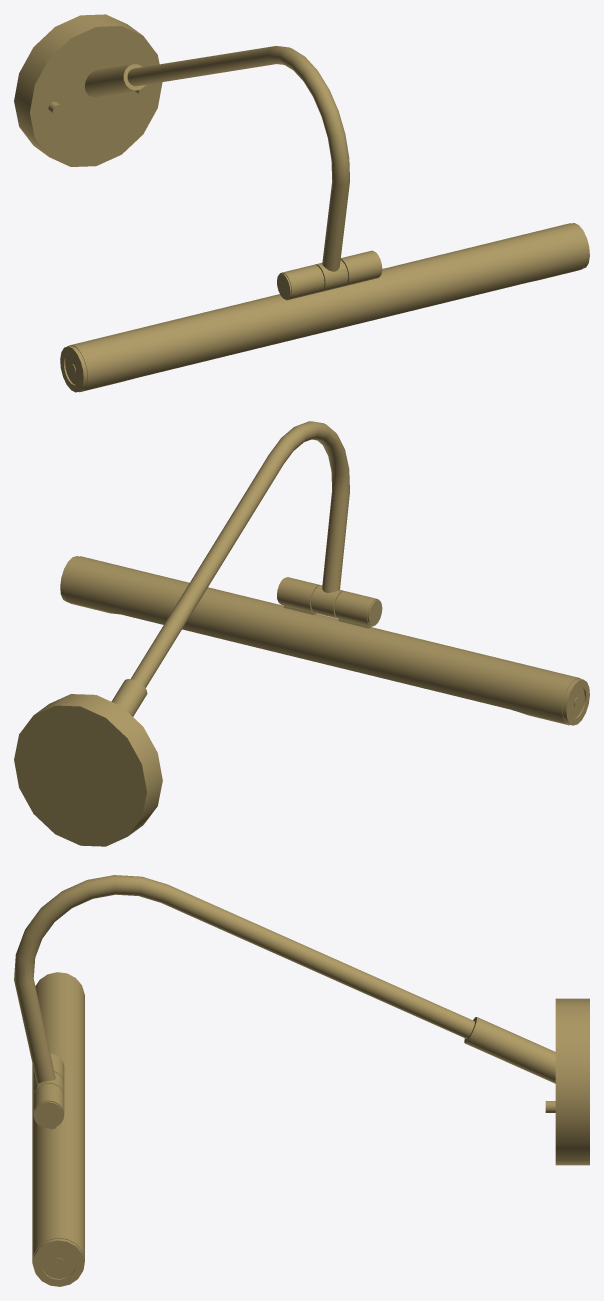
File: WallLight.fbx
3 renders of one model, top to bottom at view 1: azimuth 30°, elevation 25°; view 2: azimuth 150°, elevation 25°; view 3: azimuth 270°, elevation 25°, orthographic. The views are drawn at different scales.
Visible parts, largest first — view 1: gold; view 2: gold; view 3: gold.
Boxes of the visible parts, bbox=[...] form: gold: bbox=[14, 14, 589, 392]; gold: bbox=[14, 421, 589, 846]; gold: bbox=[14, 875, 589, 1286].
Bounding box in the file's own units: 0.388 × 0.19 × 0.352.
